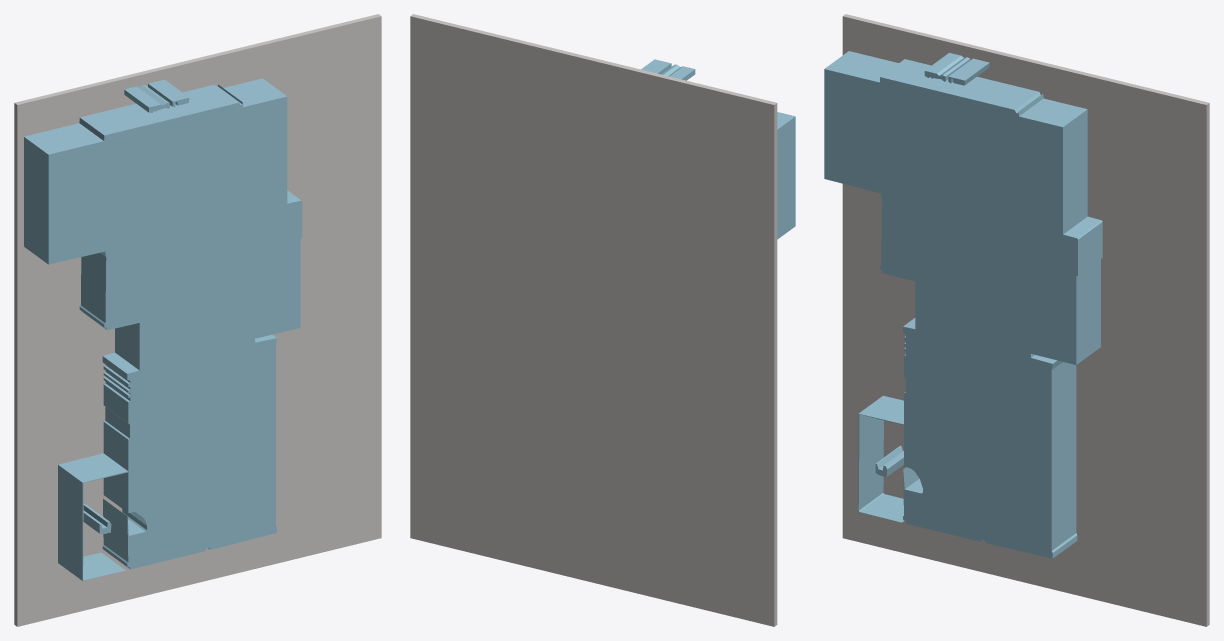
3 views of the same model, side by side, from view 1: azimuth 30°, elevation 25°; view 2: azimuth 150°, elevation 25°; view 3: azimuth 330°, elevation 25° (orthographic).
Visible parts, largest first — view 1: world; view 2: world; view 3: world.
Part boxes in pixels (<box>): world: <box>14,14,381,626</box>; world: <box>410,14,795,626</box>; world: <box>824,14,1209,626</box>.
Bounding box in the file's own units: 10.23 × 14.01 × 1.35.
